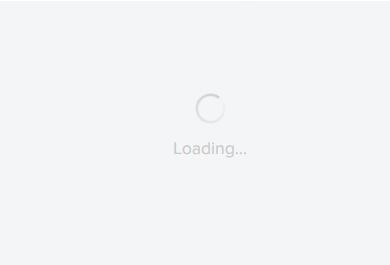0-Loading: (168, 89, 252, 164)
